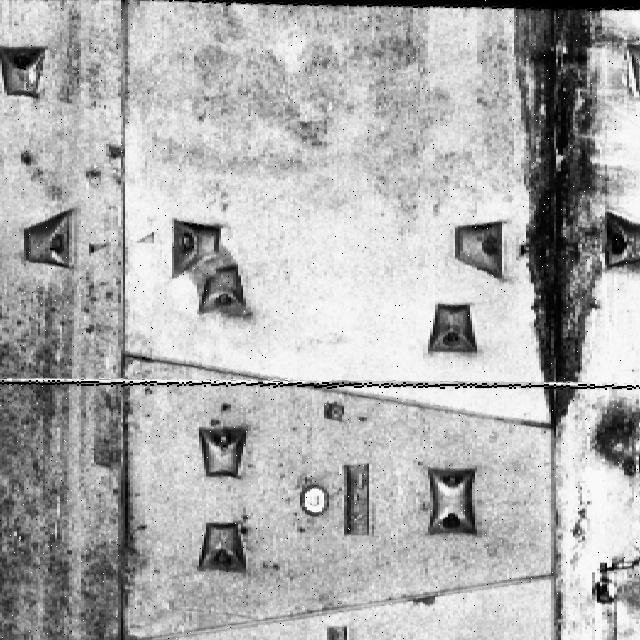leakage: (505, 2, 616, 435)
